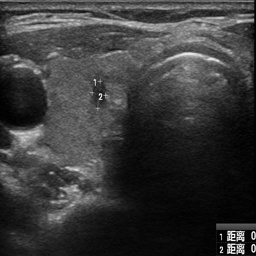mass: (88, 78, 108, 109)
